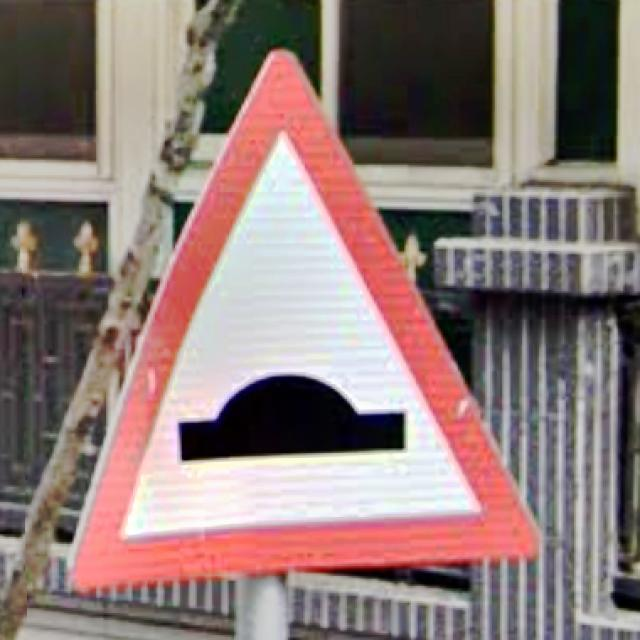hump: (69, 51, 539, 589)
